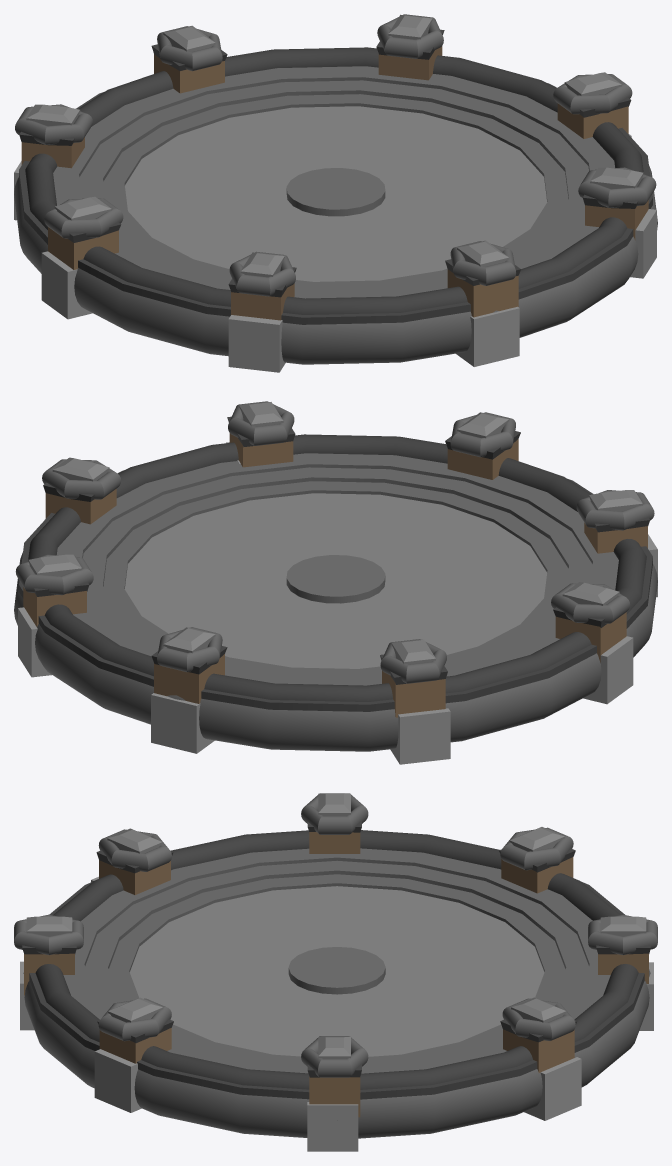
The model's file is founctain2.fbx.
The picture shows the model from 3 angles, top to bottom: view 1: azimuth 30°, elevation 25°; view 2: azimuth 150°, elevation 25°; view 3: azimuth 270°, elevation 25°; orthographic projection. The views are drawn at different scales.
Parts seen in each view (by area): view 1: polySurface79; view 2: polySurface79; view 3: polySurface79.
Part boxes in pixels (x1=…): polySurface79: x1=14, y1=14, x2=657, y2=372; polySurface79: x1=14, y1=401, x2=657, y2=764; polySurface79: x1=14, y1=793, x2=657, y2=1151.
Bounding box in the file's own units: 8.67 × 1.48 × 8.67.
